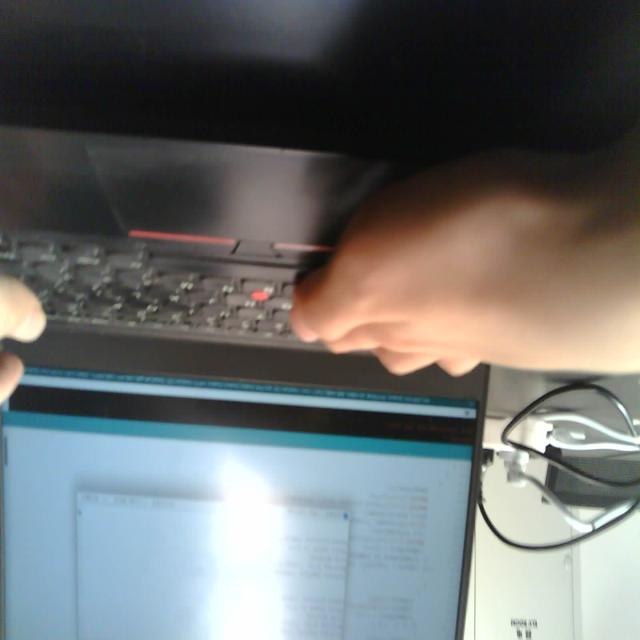keyboard-with-hands: (0, 123, 503, 355)
